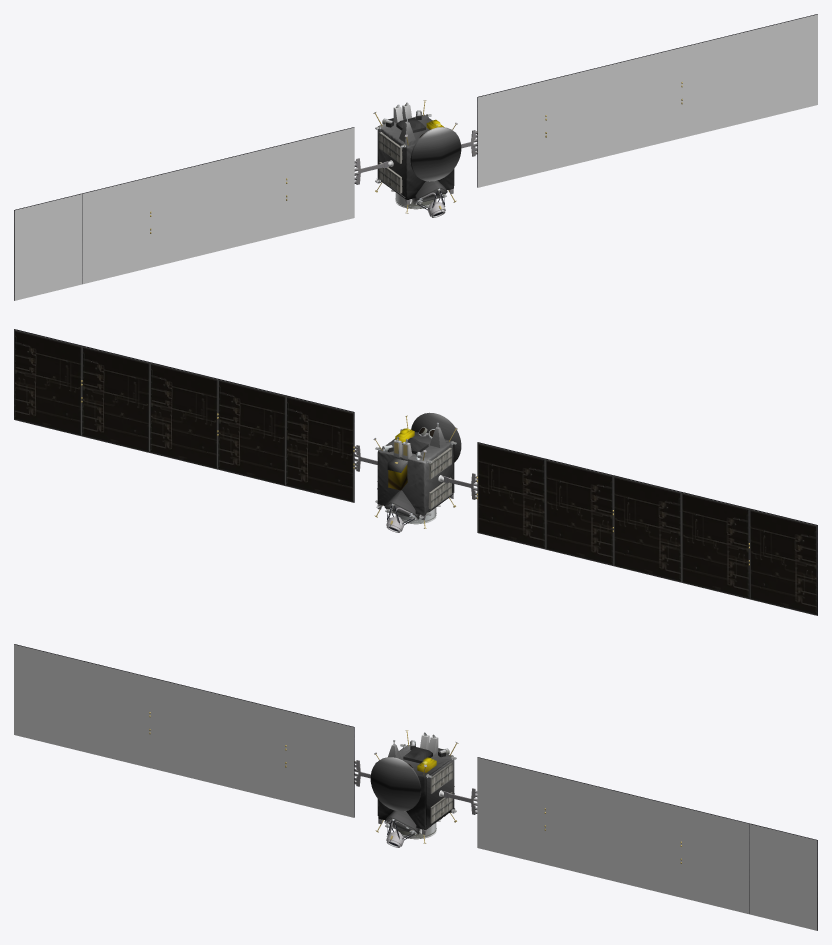
The model's file is dawn.glb.
3 views of the same model, one above another, from view 1: azimuth 30°, elevation 25°; view 2: azimuth 150°, elevation 25°; view 3: azimuth 330°, elevation 25° (orthographic).
Parts seen in each view (by area): view 1: tex_01.002, black_krinkle, tex_01; view 2: tex_01, black_krinkle, foil_gold; view 3: tex_01.002, black_krinkle, tex_01.
Boxes of the visible parts, x1,y1,x2,y2 form: tex_01.002: (14,14,817,300); black_krinkle: (377,104,461,208); tex_01: (14,14,817,300); tex_01: (14,329,817,615); black_krinkle: (377,412,461,523); foil_gold: (388,428,414,490); tex_01.002: (14,644,817,930); black_krinkle: (370,734,454,838); tex_01: (14,644,817,930).
Bounding box in the file's own units: 19.7 × 2.2 × 2.21.
Materials: 4 (3 with a texture image).
